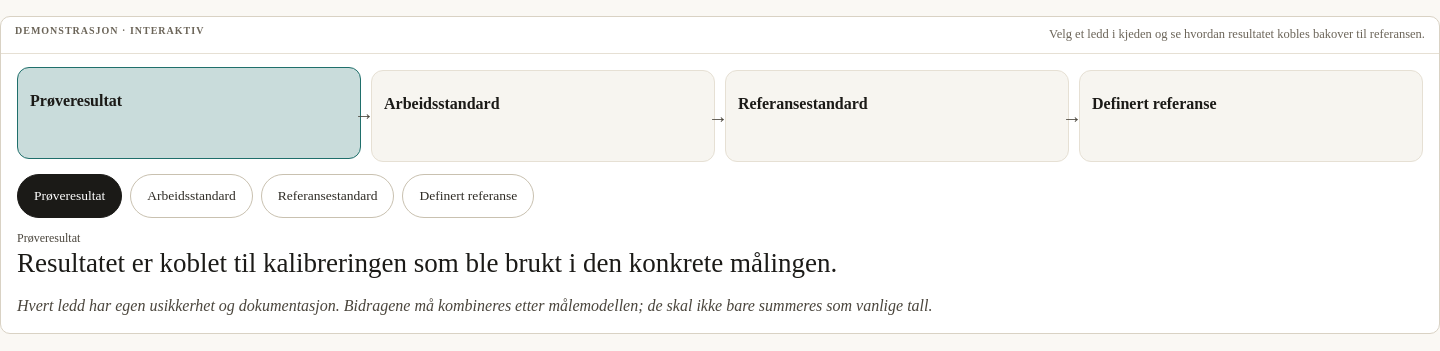
Test case: gjenværende grafiske demonstrasjoner › sporbarhet: valgt ledd viser sin rolle i kjeden
What coordinates should you click on to do the following:
click the button "Definert referanse"
I would click on:
 (468, 196)
Its box is [402,174,534,218].
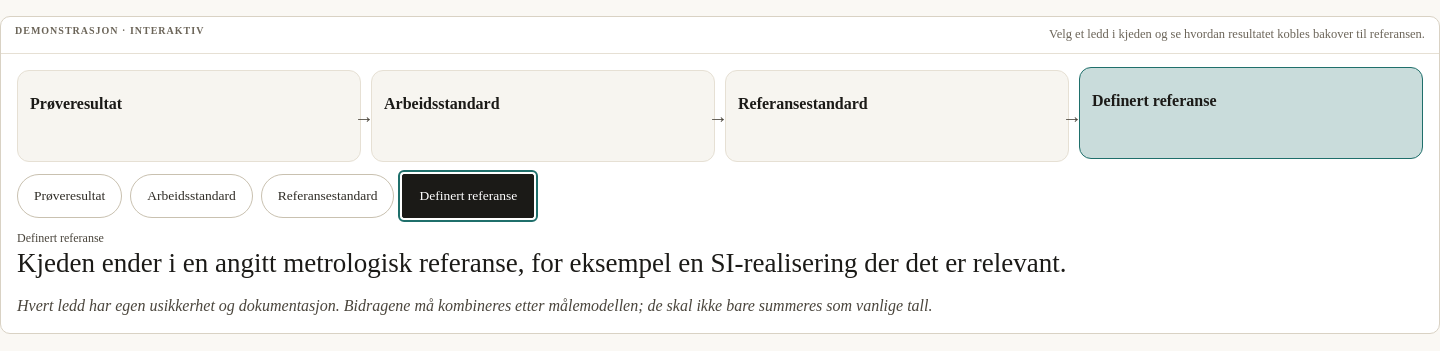
Check: the number of list items is 4, box [17,70,361,162]; [371,70,715,162]; [725,70,1069,162]; [1079,66,1423,158]
Check: the text "Kjeden ender i en angitt metrologisk referanse" is shown, box [17,248,1067,278]
